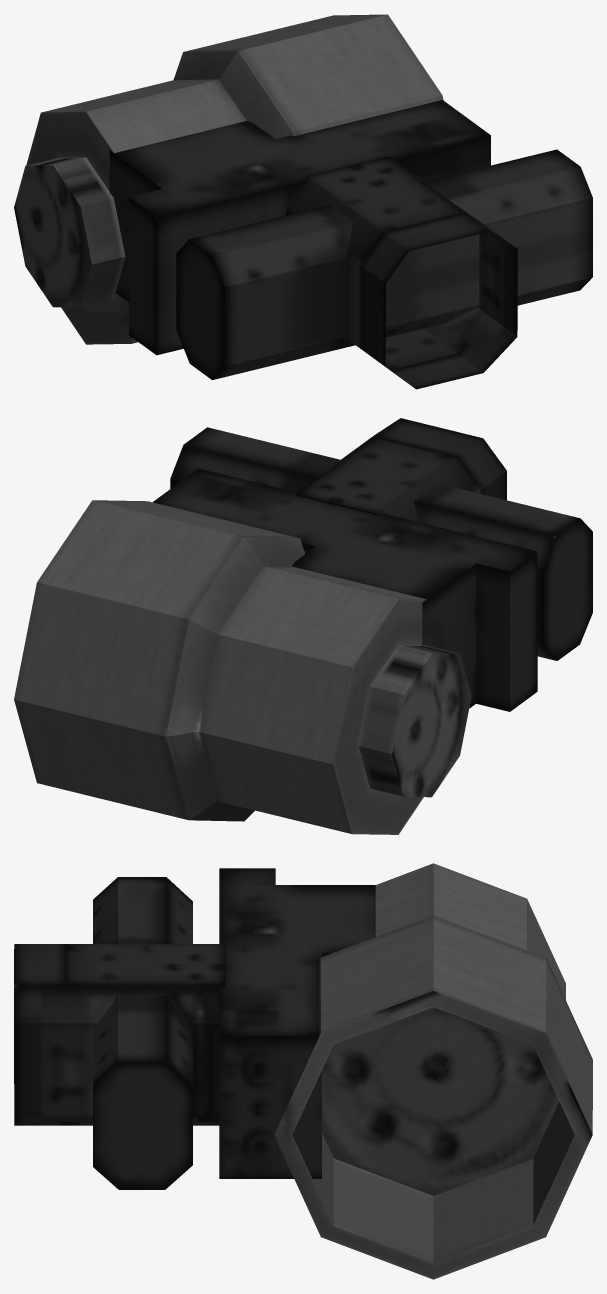
Rendered from l_elbow_ry.dae.
3 views of the same model, one above another, from view 1: azimuth 30°, elevation 25°; view 2: azimuth 150°, elevation 25°; view 3: azimuth 270°, elevation 25° (orthographic). The views are drawn at different scales.
Parts seen in each view (by area): view 1: drc_l_sh_ry; view 2: drc_l_sh_ry; view 3: drc_l_sh_ry.
Boxes of the visible parts, x1,y1,x2,y2 form: drc_l_sh_ry: (14,14,592,389); drc_l_sh_ry: (14,418,592,834); drc_l_sh_ry: (14,863,592,1279).
Bounding box in the file's own units: 0.1299 × 0.1684 × 0.0927.
1 material, 1 textured.
